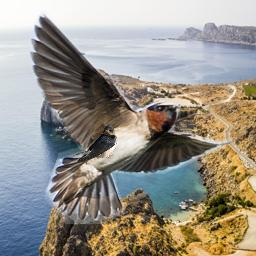Swallow: (27, 10, 237, 224), (71, 125, 117, 162)
